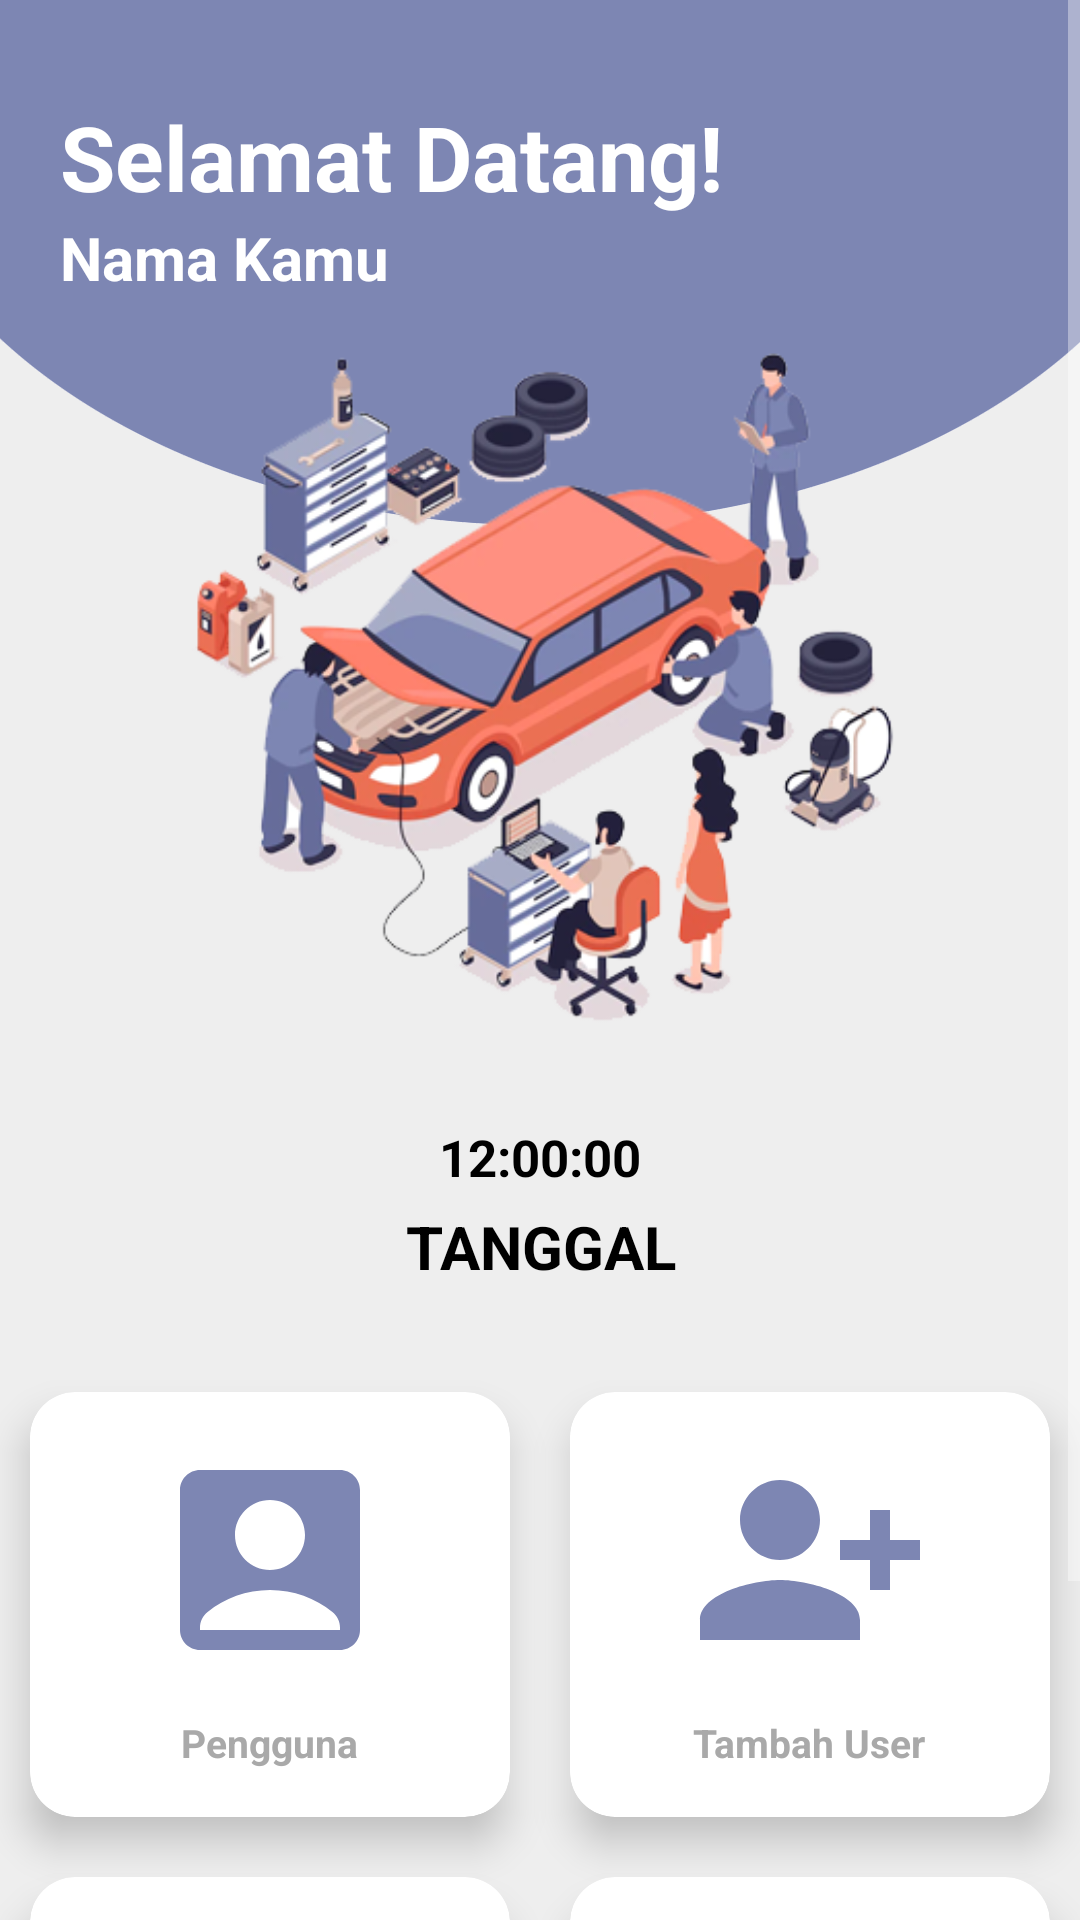

Locate icon controls on the screen. Image size 1080w x 1920h, boxes as (x1, y1, x2, y2).
profile: (180, 1470, 360, 1650)
